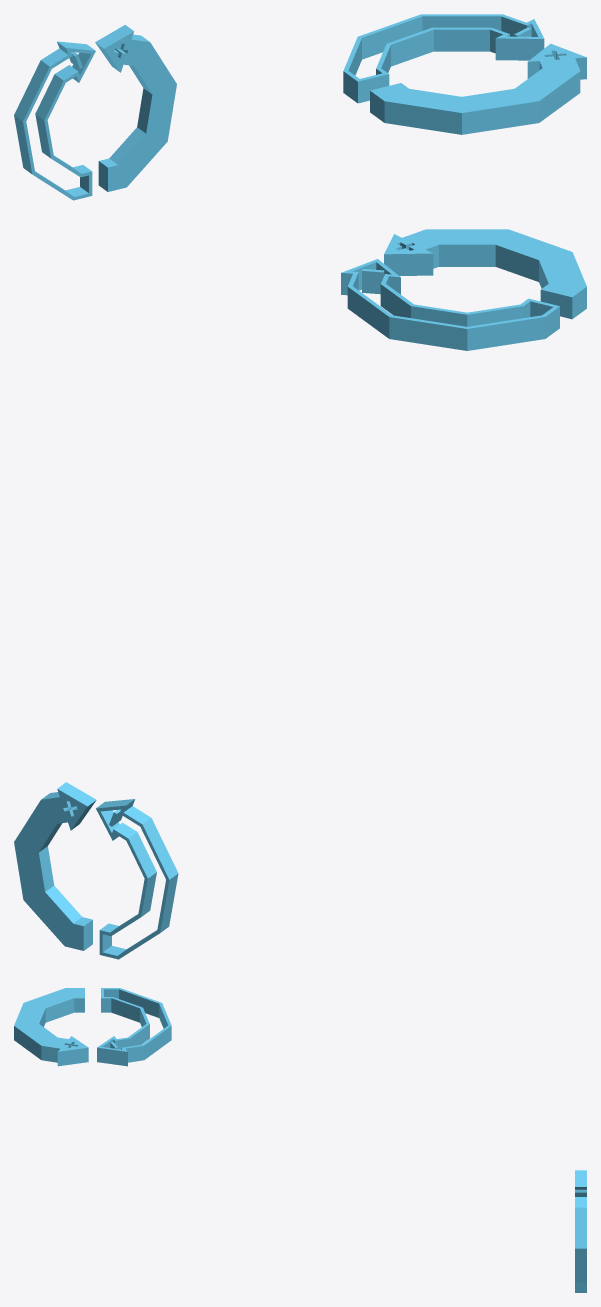
The model's file is mpe_arrow_wheel_9.dae.
3 views of the same model, one above another, from view 1: azimuth 30°, elevation 25°; view 2: azimuth 150°, elevation 25°; view 3: azimuth 270°, elevation 25° (orthographic). The views are drawn at different scales.
Visible parts, largest first — view 1: SketchUp.009; view 2: SketchUp.009; view 3: SketchUp.009.
Part boxes in pixels (bbox=[...]): SketchUp.009: bbox=[14, 14, 586, 200]; SketchUp.009: bbox=[14, 229, 586, 959]; SketchUp.009: bbox=[14, 988, 586, 1292].
Bounding box in the file's own units: 0.4717 × 1.79 × 0.9104.
